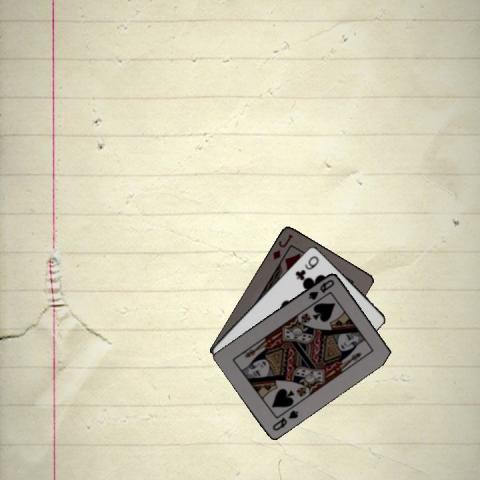9c: (292, 253, 320, 280)
Jd: (269, 231, 295, 261)
Qs: (305, 276, 336, 301), (269, 407, 300, 432)
